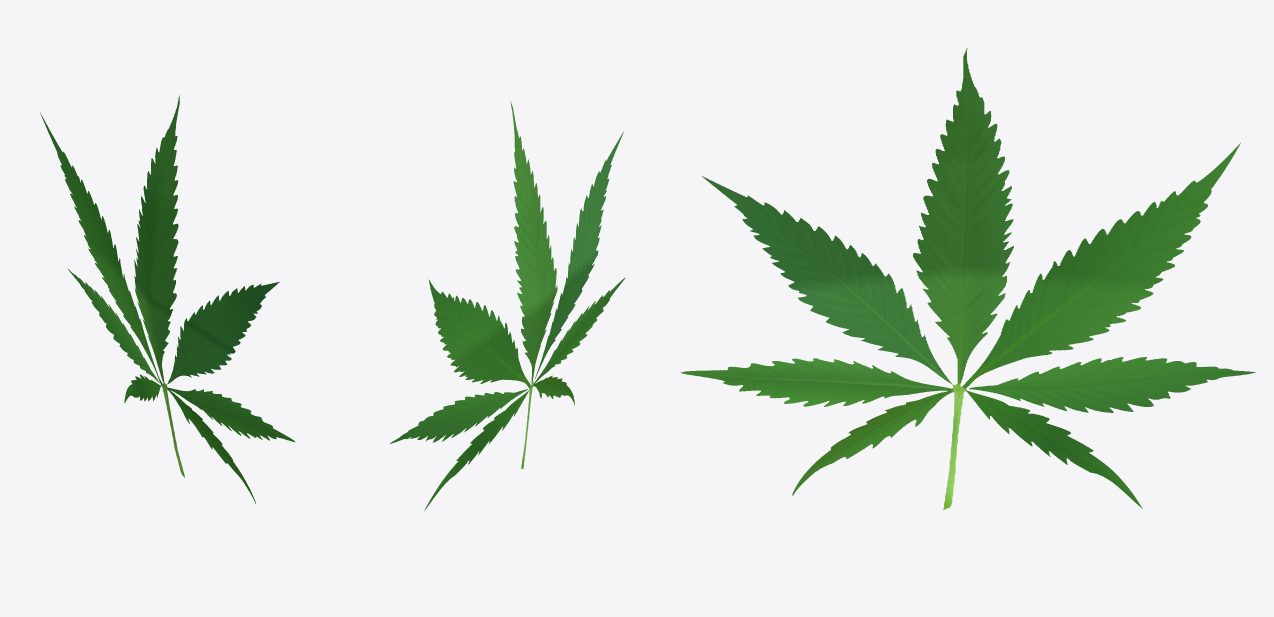
File: weed.glb
3 views of the same model, side by side, from view 1: azimuth 30°, elevation 25°; view 2: azimuth 150°, elevation 25°; view 3: azimuth 270°, elevation 25° (orthographic). The views are drawn at different scales.
Visible parts, largest first — view 1: 2000px-Cannabis_leaf_2_COLOR; view 2: 2000px-Cannabis_leaf_2_COLOR; view 3: 2000px-Cannabis_leaf_2_COLOR.
Boxes of the visible parts, x1,y1,x2,y2 form: 2000px-Cannabis_leaf_2_COLOR: (40, 94, 295, 503); 2000px-Cannabis_leaf_2_COLOR: (390, 101, 625, 510); 2000px-Cannabis_leaf_2_COLOR: (680, 48, 1255, 510).
Size of the model in its own units: 0.2022 by 0.9376 by 0.9242.
Materials: 1 (1 with a texture image).
